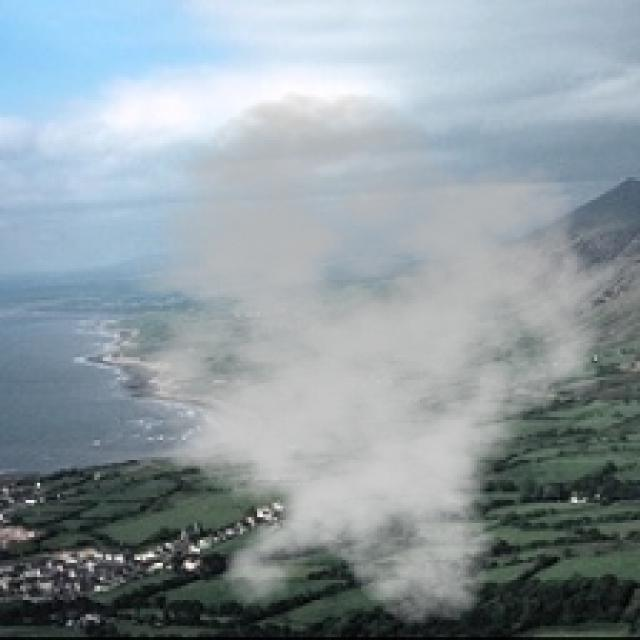Smoke: (71, 91, 634, 628)
